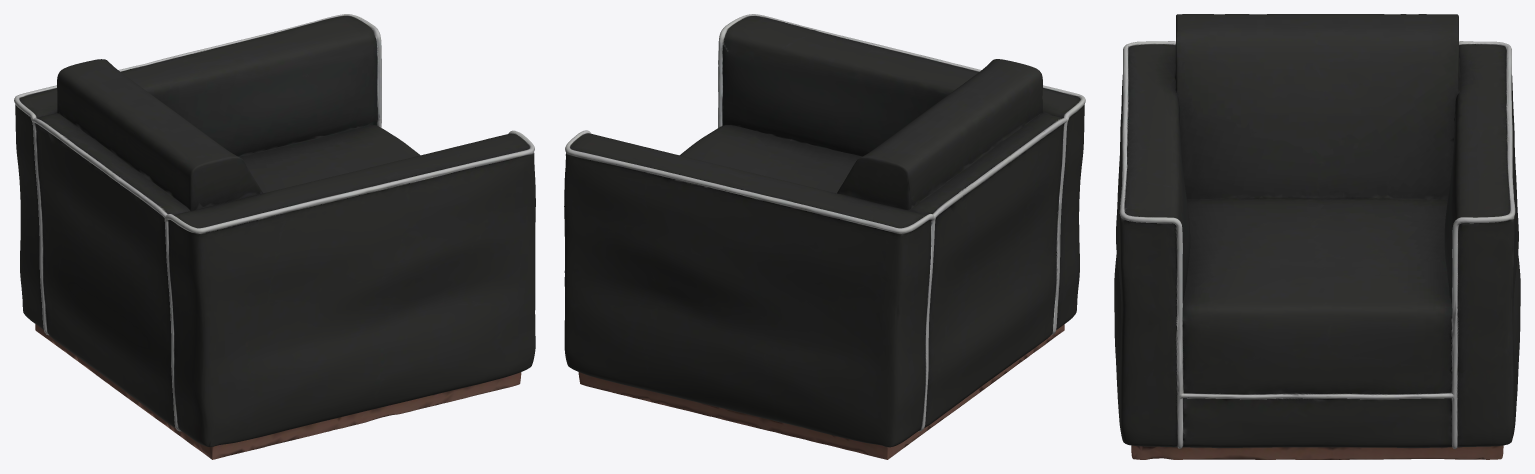
The picture shows the model from 3 angles, left to right: view 1: azimuth 30°, elevation 25°; view 2: azimuth 150°, elevation 25°; view 3: azimuth 270°, elevation 25°; orthographic projection. The views are drawn at different scales.
Parts seen in each view (by area): view 1: tripo_node_b2c8a8ff-3d68-4255-8c1a-1685b0ed09ad; view 2: tripo_node_b2c8a8ff-3d68-4255-8c1a-1685b0ed09ad; view 3: tripo_node_b2c8a8ff-3d68-4255-8c1a-1685b0ed09ad.
Part boxes in pixels (x1,y1,x2,y2): tripo_node_b2c8a8ff-3d68-4255-8c1a-1685b0ed09ad: [14, 14, 535, 459]; tripo_node_b2c8a8ff-3d68-4255-8c1a-1685b0ed09ad: [564, 14, 1085, 459]; tripo_node_b2c8a8ff-3d68-4255-8c1a-1685b0ed09ad: [1114, 14, 1520, 459].
Size of the model in its own units: 1.12 by 0.85 by 1.07.
1 material, 1 textured.
